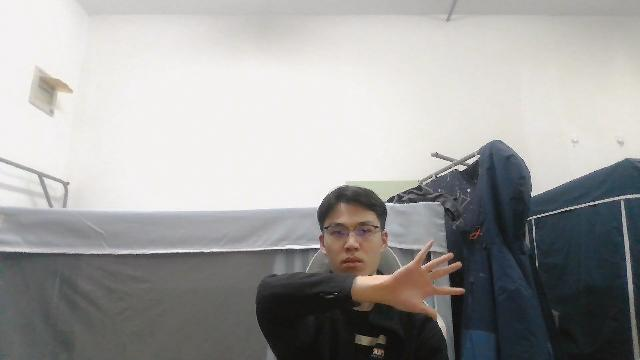five: (349, 239, 467, 320)
